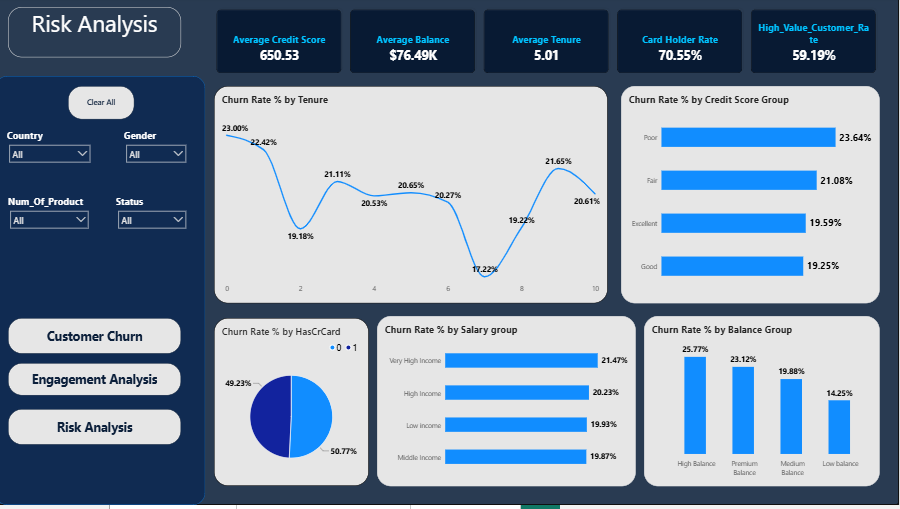

This screenshot's page, from the dashboard's own definition file:
{"tool":"powerbi","page":{"name":"Risk Analysis","canvas":[1920,1080],"ordinal":2},"visuals":[{"type":"cardVisual","fields":{"Data":["KPI'S.Average Credit Score","KPI'S.Average Balance","KPI'S.Average Tenure","KPI'S.Card Holder Rate","KPI'S.High_Value_Customer_Rate"]},"box":[465.5,20.6,1415.4,146.4],"z":0},{"type":"clusteredBarChart","fields":{"Category":["European_Bank.Credit Score Group"],"Y":["KPI'S.Churn Rate %"]},"box":[1330.9,189.6,550,461.8],"z":1000},{"type":"clusteredColumnChart","fields":{"Y":["KPI'S.Churn Rate %"],"Category":["European_Bank.Balance Group"]},"box":[1379.7,677.7,501.2,362.3],"z":2000},{"type":"pieChart","fields":{"Category":["European_Bank.HasCrCard"],"Y":["KPI'S.Churn Rate %"]},"box":[465.5,683.3,328.5,356.7],"z":3000},{"type":"clusteredBarChart","fields":{"Category":["European_Bank.Salary group"],"Y":["KPI'S.Churn Rate %"]},"box":[812.8,677.7,550,362.3],"z":4000},{"type":"shape","box":[0,167.9,447,912.1],"z":5000},{"type":"actionButton","box":[28.3,683.1,368.4,76],"z":6000},{"type":"actionButton","box":[28.2,779,367.9,69.5],"z":7000},{"type":"actionButton","box":[28.3,875.1,368.4,76],"z":8000},{"type":"slicer","title":"Status","fields":{"Values":["European_Bank.Credit Score Group"]},"box":[257.2,420.5,153.9,144.5],"z":9000},{"type":"slicer","title":"Country","fields":{"Values":["European_Bank.Geography"]},"box":[26.3,281.6,182.1,122],"z":10000},{"type":"slicer","title":"Gender","fields":{"Values":["European_Bank.Gender"]},"box":[274.1,281.6,137,108.9],"z":11000},{"type":"slicer","title":"Num_Of_Product","fields":{"Values":["European_Bank.Balance Group"]},"box":[28.2,420.5,176.5,144.5],"z":12000},{"type":"lineChart","fields":{"Category":["European_Bank.Tenure"],"Y":["KPI'S.Churn Rate %"]},"box":[465.5,189.6,837.2,461.8],"z":13000},{"type":"textbox","title":"gfhh","box":[28.2,20.6,367.9,107],"z":14000},{"type":"actionButton","box":[155.8,189.6,140.8,71.3],"z":15000}]}

Visuals, with their boxes in screenshot pixels (x1, y1, x2, y2), scaled from the page's 1920x1080 canvas onto the 900x509 screenshot:
cardVisual - KPI'S.Average Credit Score x KPI'S.Average Balance: (left=218, top=10, right=882, bottom=79)
clusteredBarChart - European_Bank.Credit Score Group x KPI'S.Churn Rate %: (left=624, top=89, right=882, bottom=307)
clusteredColumnChart - KPI'S.Churn Rate % x European_Bank.Balance Group: (left=647, top=319, right=882, bottom=490)
pieChart - European_Bank.HasCrCard x KPI'S.Churn Rate %: (left=218, top=322, right=372, bottom=490)
clusteredBarChart - European_Bank.Salary group x KPI'S.Churn Rate %: (left=381, top=319, right=639, bottom=490)
shape: (left=0, top=79, right=210, bottom=508)
actionButton: (left=13, top=322, right=186, bottom=358)
actionButton: (left=13, top=367, right=186, bottom=400)
actionButton: (left=13, top=412, right=186, bottom=448)
"Status" slicer: (left=121, top=198, right=193, bottom=266)
"Country" slicer: (left=12, top=133, right=98, bottom=190)
"Gender" slicer: (left=128, top=133, right=193, bottom=184)
"Num_Of_Product" slicer: (left=13, top=198, right=96, bottom=266)
lineChart - European_Bank.Tenure x KPI'S.Churn Rate %: (left=218, top=89, right=611, bottom=307)
"gfhh" textbox: (left=13, top=10, right=186, bottom=60)
actionButton: (left=73, top=89, right=139, bottom=123)
